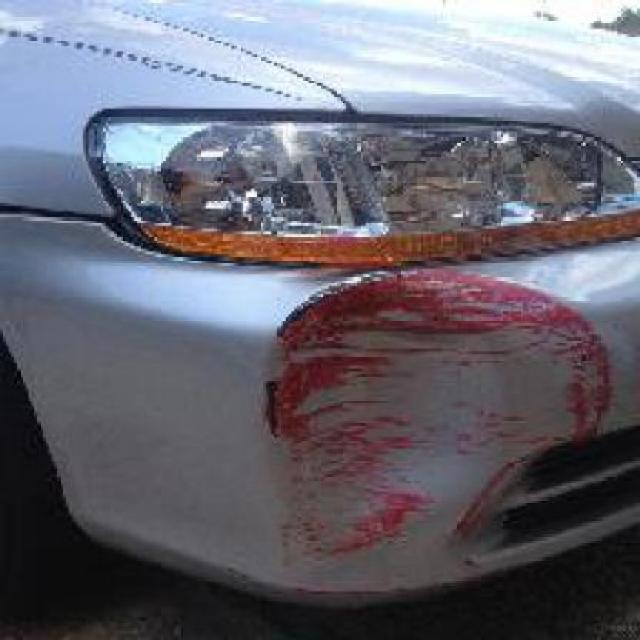dent-or-scratch: (270, 278, 606, 554)
